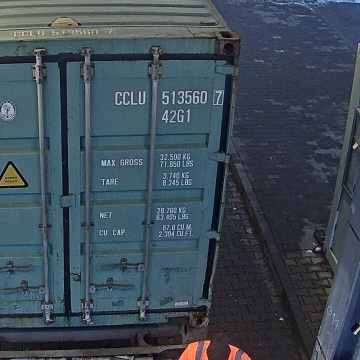serial_id: (115, 90, 222, 105)
